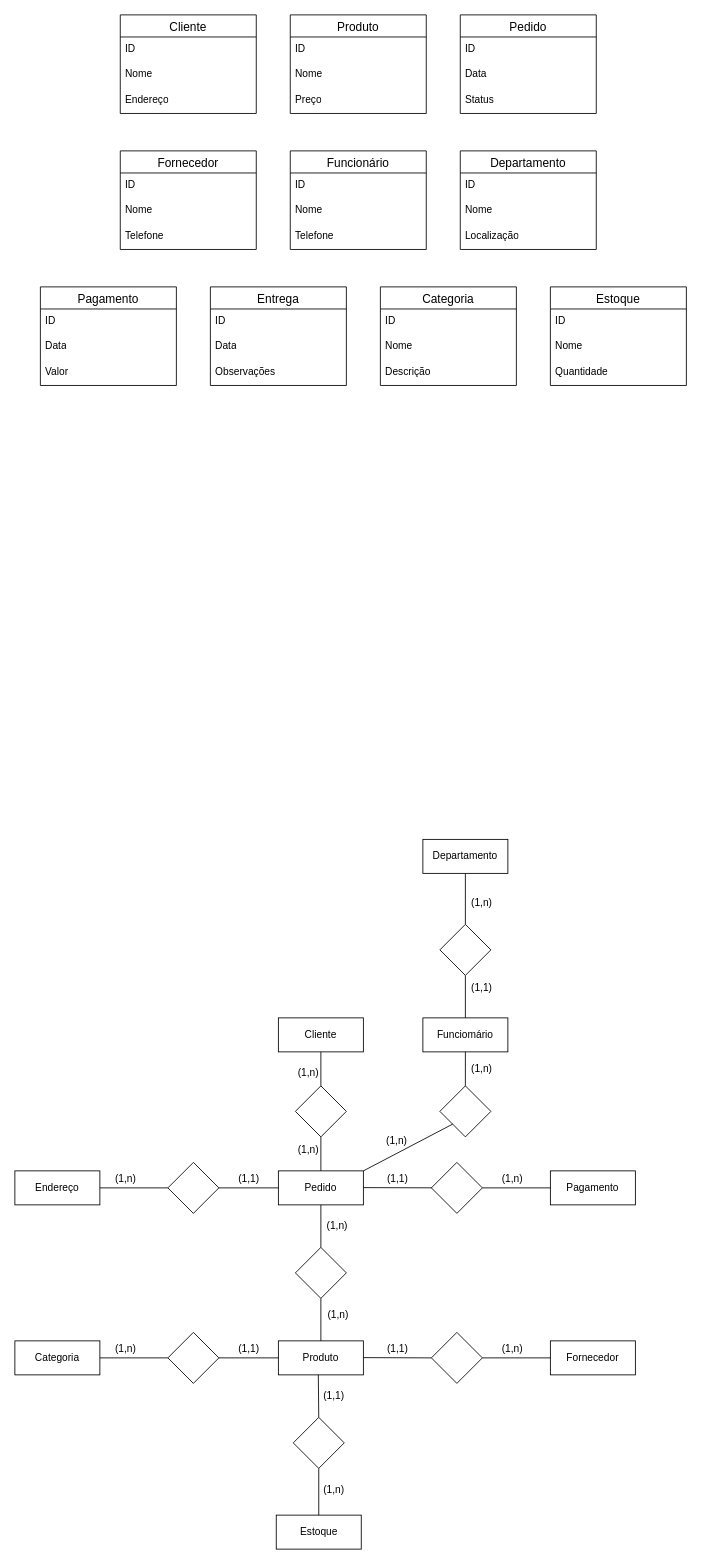
The diagram is 701 pixels wide and 1564 high, and some of its shapes have lost their labels. The centre of each missing label's shape, as x and y in pixels:
"Contém" goes at pixel 320 1272.
"Faz" goes at pixel 320 1111.
"Fornecido" goes at pixel 456 1357.
"Pago" goes at pixel 456 1187.
"Pertence" goes at pixel 193 1357.
"Registro" goes at pixel 318 1442.
"Trabalha" goes at pixel 465 949.
"Transporta" goes at pixel 193 1187.
"É feito" goes at pixel 465 1111.
